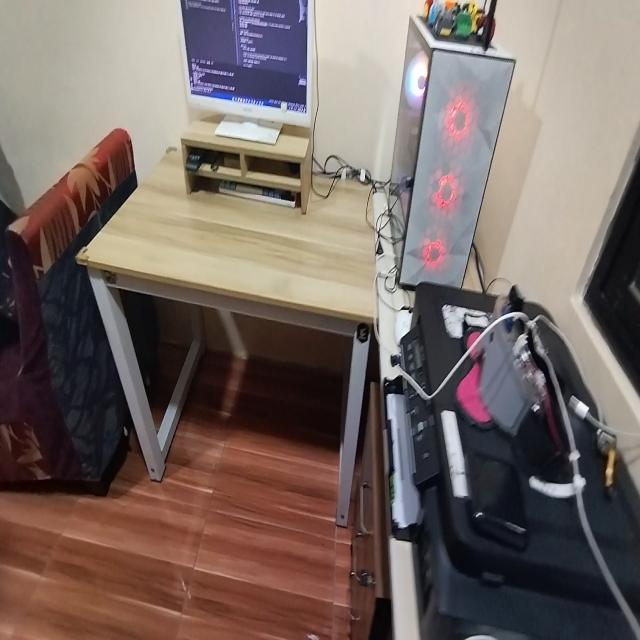table: (77, 129, 378, 525)
